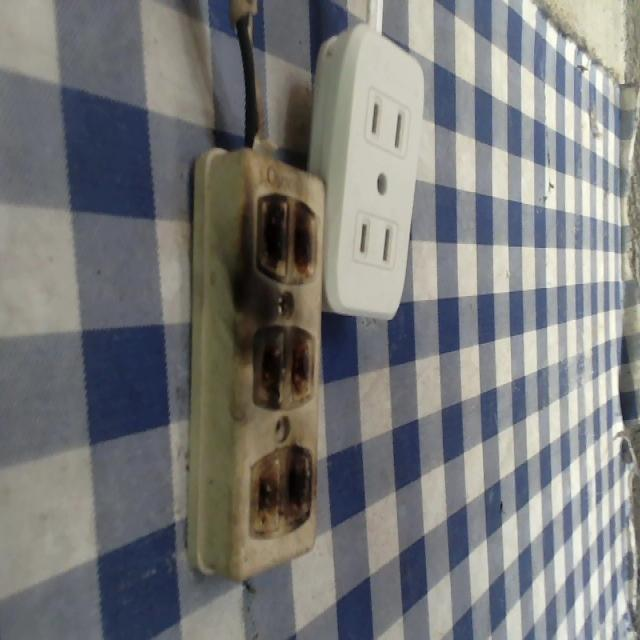-: (242, 441, 315, 540), (252, 183, 318, 285), (247, 317, 317, 408)
